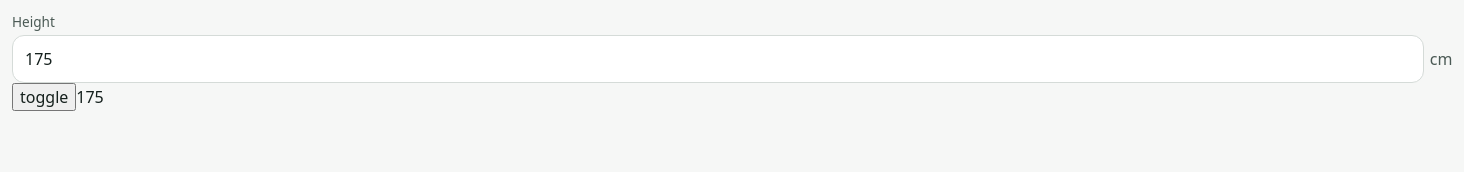
Test: HeightField › metric: out-of-range cm is not saved
Replace the text in the field labelled "Height" with "1750": (718, 59) top-left (12, 35), bottom-right (1424, 83)
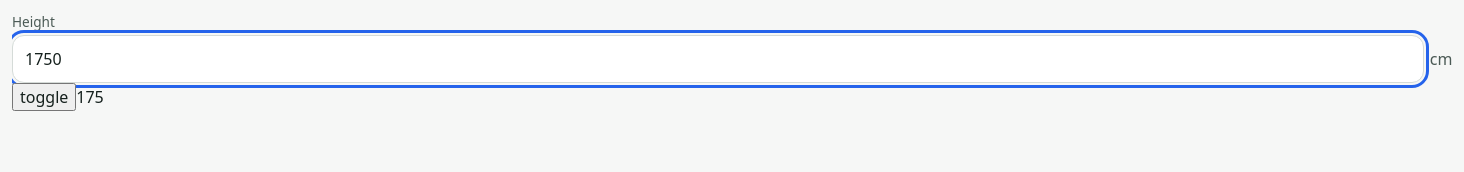
Press Tab
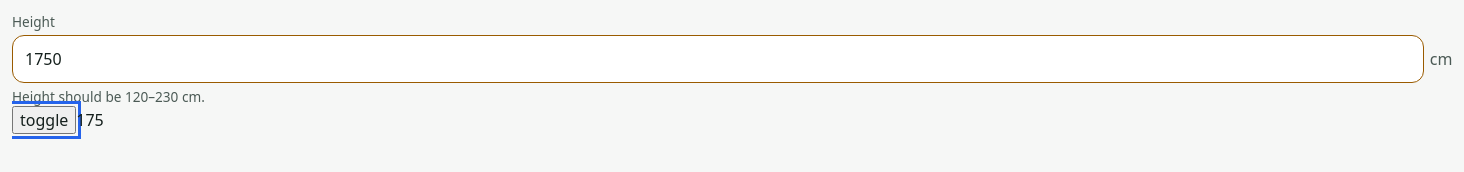
Check: the text with test id "cm" reads "175", box top-left (76, 109), bottom-right (104, 131)
Check: the text "Height should be 120–230 cm." is shown, box top-left (12, 87), bottom-right (205, 106)
